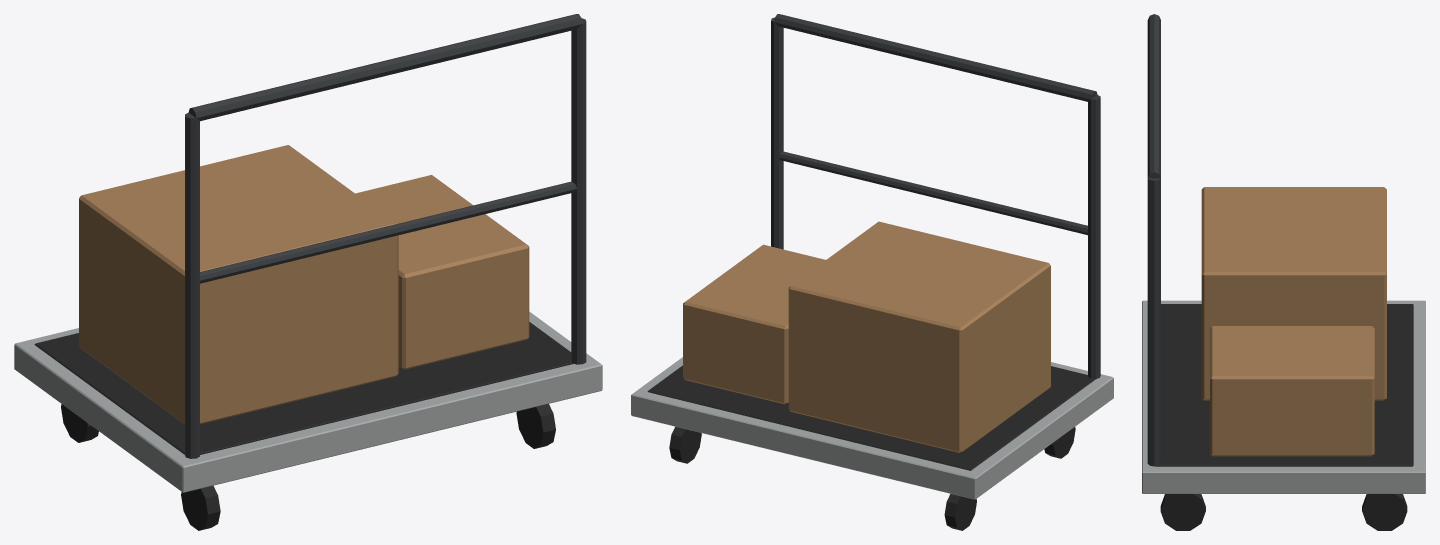
Rendered from prop_freight_dolly.glb.
3 views of the same model, side by side, from view 1: azimuth 30°, elevation 25°; view 2: azimuth 150°, elevation 25°; view 3: azimuth 270°, elevation 25° (orthographic). The views are drawn at different scales.
Visible parts, largest first — view 1: Dolly; view 2: Dolly; view 3: Dolly.
Boxes of the visible parts, x1,y1,x2,y2 form: Dolly: [14, 14, 602, 530]; Dolly: [631, 14, 1113, 530]; Dolly: [1142, 14, 1425, 530].
Size of what is drawn, in the model's own units: 0.99 by 0.9833 by 0.69.
